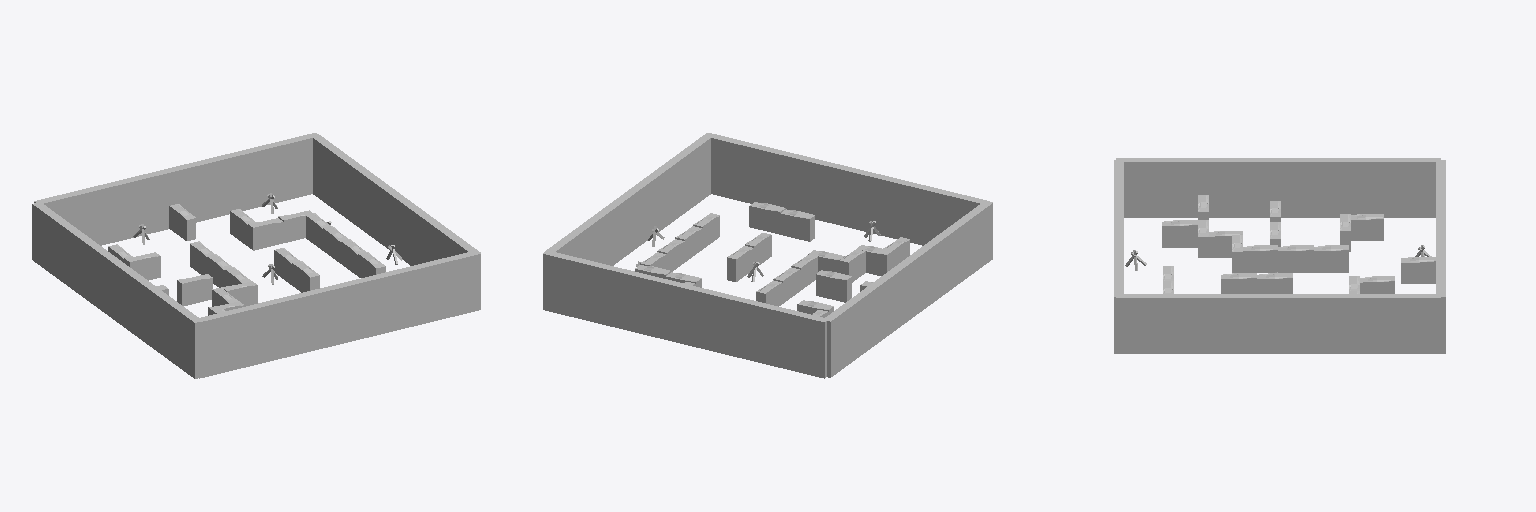
File: terrain.obj
3 views of the same model, side by side, from view 1: azimuth 30°, elevation 25°; view 2: azimuth 150°, elevation 25°; view 3: azimuth 270°, elevation 25° (orthographic).
Parts seen in each view (by area): view 1: pasted__pasted__pCube1 pasted__group group1, pasted__group group1 pasted__pasted__pCube2, pCube1, pasted__pCube1 group, pCube14, pCube29, pCube38, pCube26, pCube24, pCube13, pCube18, pCube15 (+5 smaller); view 2: pasted__group group1 pasted__pasted__pCube2, pasted__pasted__pCube1 pasted__group group1, pCube1, pasted__pCube1 group, pCube29, pCube28, pCube27, pCube23, pCube17, pCube22, pCube10, pCube20 (+5 smaller); view 3: pasted__pCube1 group, pCube1, pasted__group group1 pasted__pasted__pCube2, pasted__pasted__pCube1 pasted__group group1, pCube16, pCube20, pCube19, pCube21, pCube38, pCube25, pCube24, pCube23 (+2 smaller).
Part boxes in pixels (left/top/right/bottom): pasted__pasted__pCube1 pasted__group group1: left=198, top=250, right=480, bottom=378; pasted__group group1 pasted__pasted__pCube2: left=34, top=133, right=319, bottom=245; pCube1: left=32, top=202, right=200, bottom=378; pasted__pCube1 group: left=311, top=134, right=480, bottom=265; pCube14: left=248, top=218, right=283, bottom=250; pCube29: left=177, top=274, right=212, bottom=305; pCube38: left=169, top=204, right=195, bottom=240; pCube26: left=124, top=252, right=160, bottom=280; pCube24: left=292, top=261, right=319, bottom=292; pCube13: left=278, top=210, right=312, bottom=242; pCube18: left=222, top=281, right=257, bottom=306; pCube15: left=230, top=209, right=256, bottom=245; pasted__group group1 pasted__pasted__pCube2: left=543, top=252, right=827, bottom=378; pasted__pasted__pCube1 pasted__group group1: left=705, top=133, right=989, bottom=245; pCube1: left=823, top=201, right=992, bottom=377; pasted__pCube1 group: left=545, top=133, right=713, bottom=265; pCube29: left=816, top=270, right=851, bottom=302; pCube28: left=779, top=209, right=814, bottom=241; pCube27: left=749, top=202, right=785, bottom=233; pCube23: left=727, top=246, right=753, bottom=281; pCube17: left=857, top=245, right=892, bottom=275; pCube22: left=839, top=249, right=865, bottom=282; pCube10: left=675, top=226, right=702, bottom=261; pCube20: left=773, top=267, right=800, bottom=303; pasted__pCube1 group: left=1116, top=294, right=1440, bottom=353; pCube1: left=1116, top=158, right=1440, bottom=217; pasted__group group1 pasted__pasted__pCube2: left=1436, top=160, right=1445, bottom=353; pasted__pasted__pCube1 pasted__group group1: left=1114, top=160, right=1123, bottom=353; pCube16: left=1162, top=220, right=1197, bottom=247; pCube20: left=1278, top=245, right=1313, bottom=272; pCube19: left=1313, top=245, right=1348, bottom=272; pCube21: left=1243, top=245, right=1277, bottom=272; pCube38: left=1401, top=257, right=1435, bottom=283; pCube25: left=1351, top=214, right=1383, bottom=240; pCube24: left=1221, top=273, right=1256, bottom=293; pCube23: left=1257, top=273, right=1292, bottom=293.
Bounding box in the file's own units: 14.48 × 2.72 × 14.5.